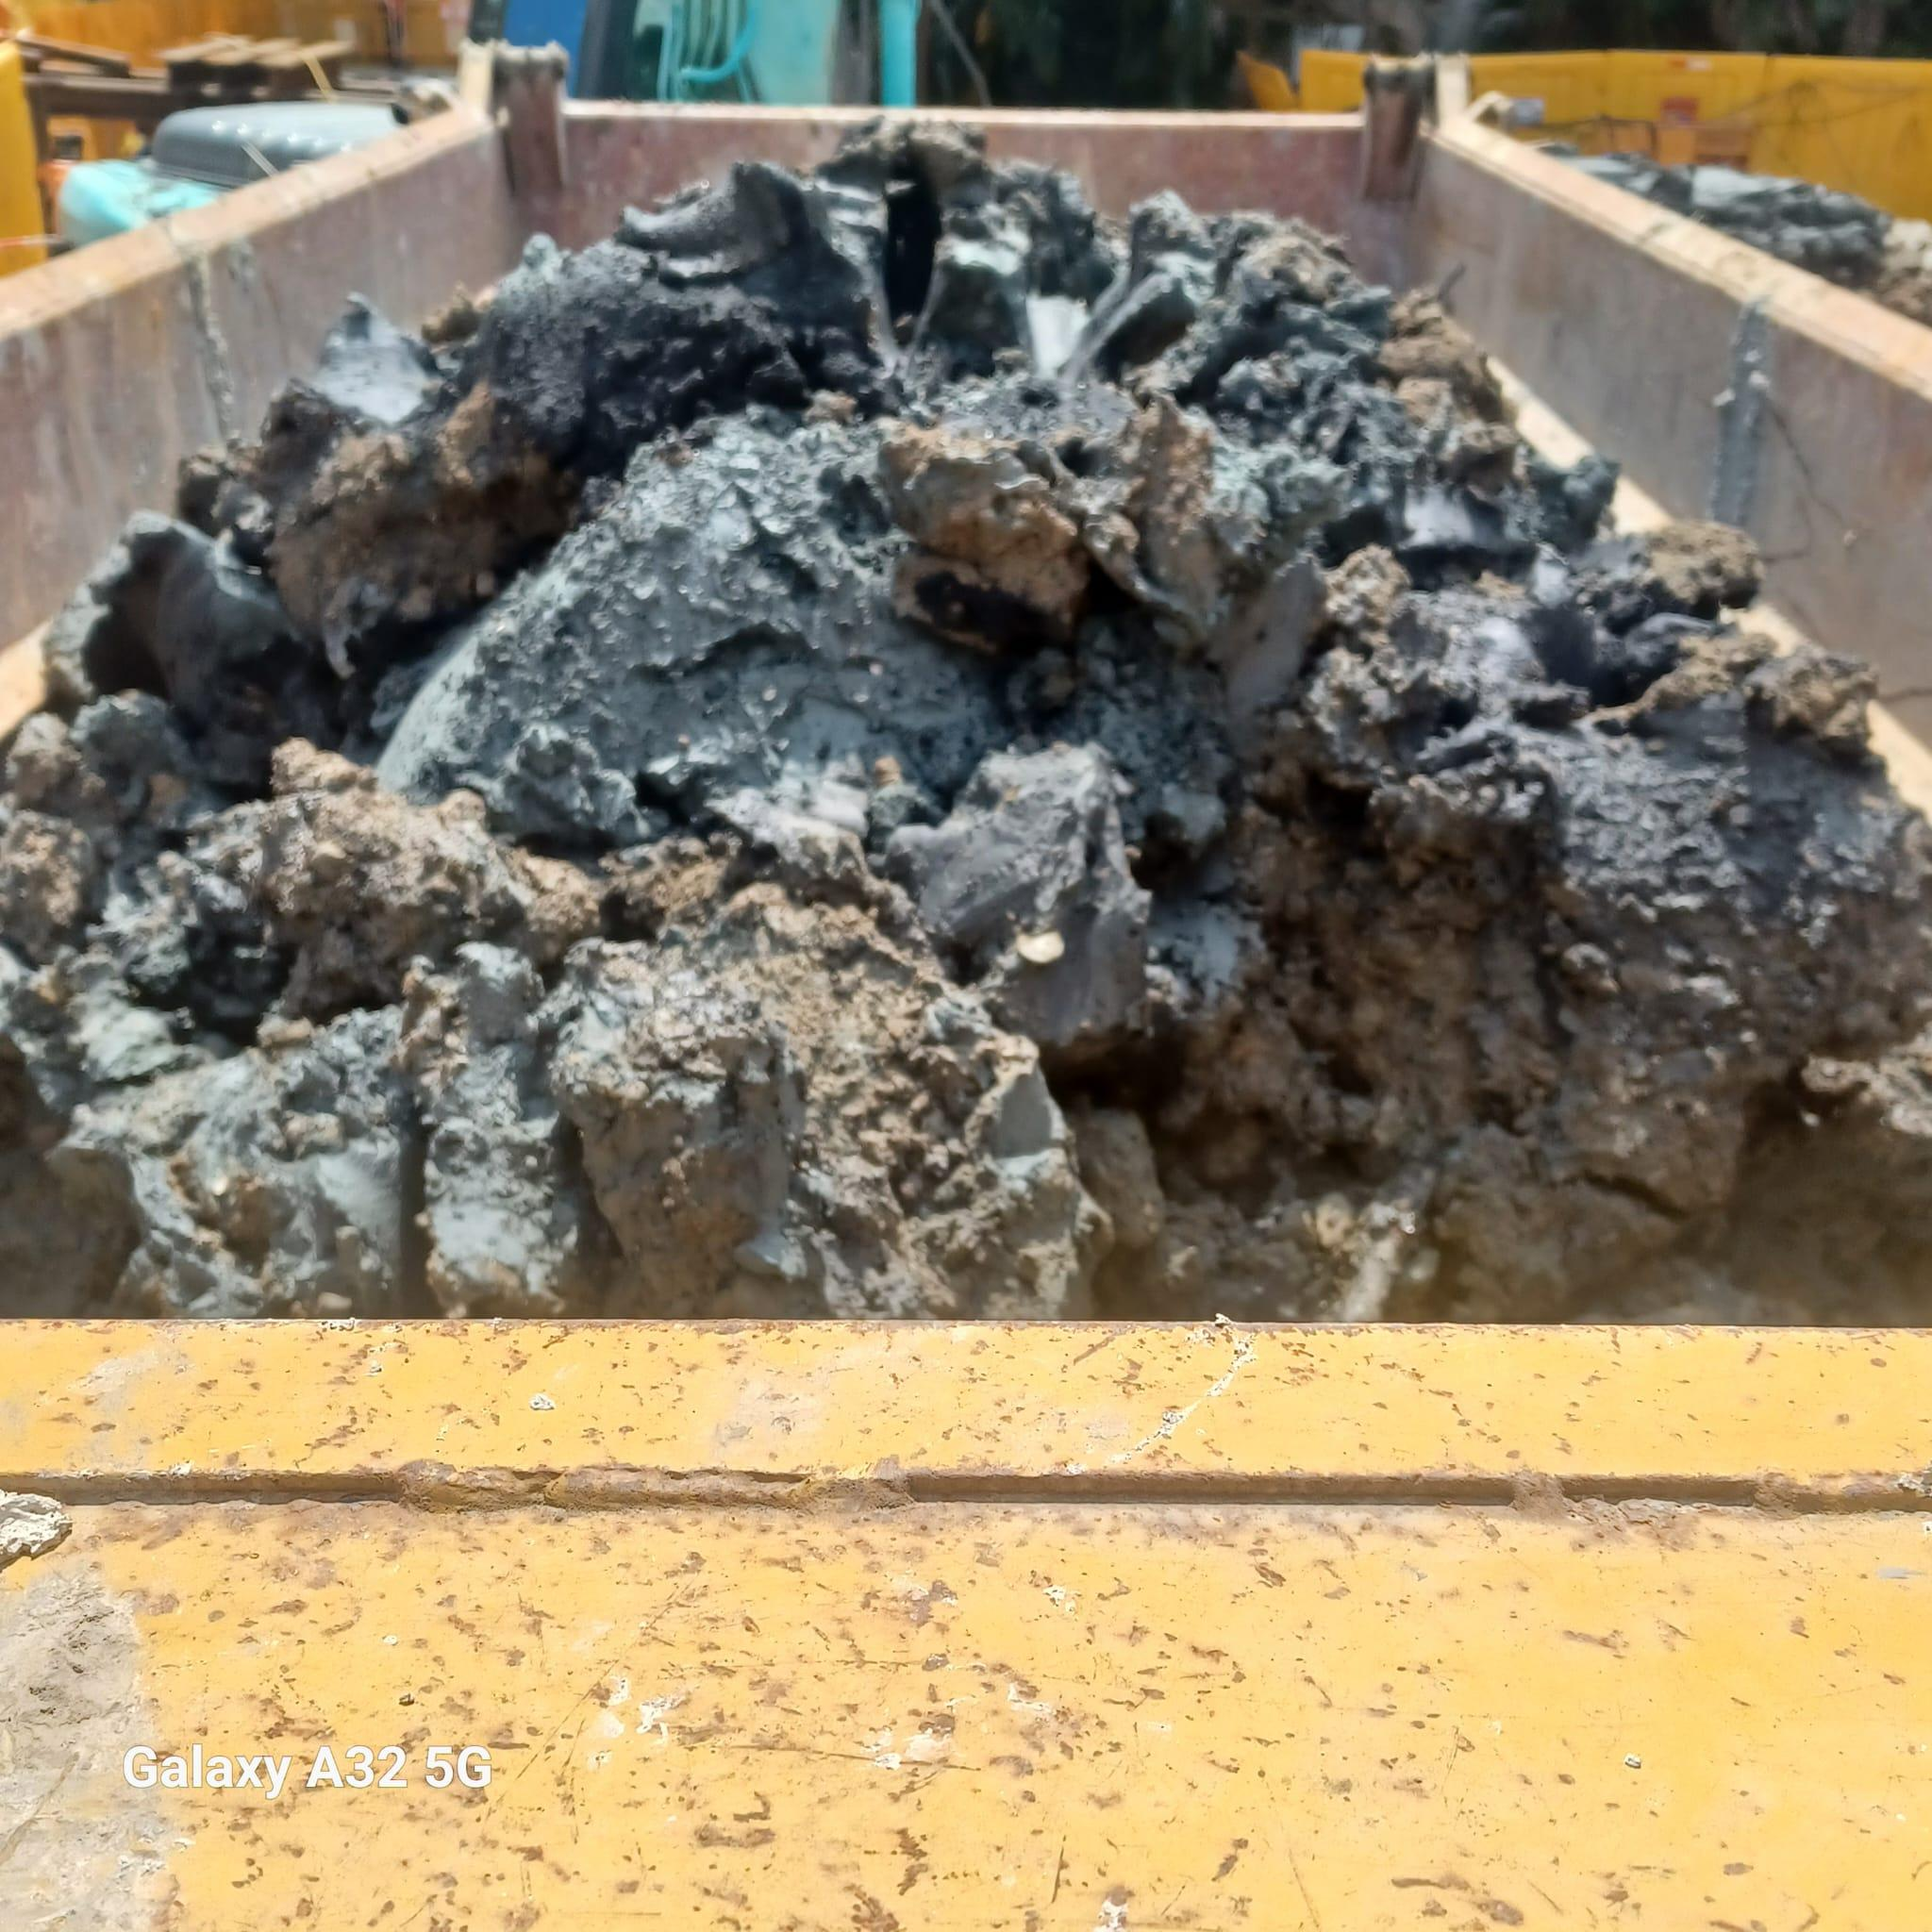wet: (16, 226, 1932, 1295)
